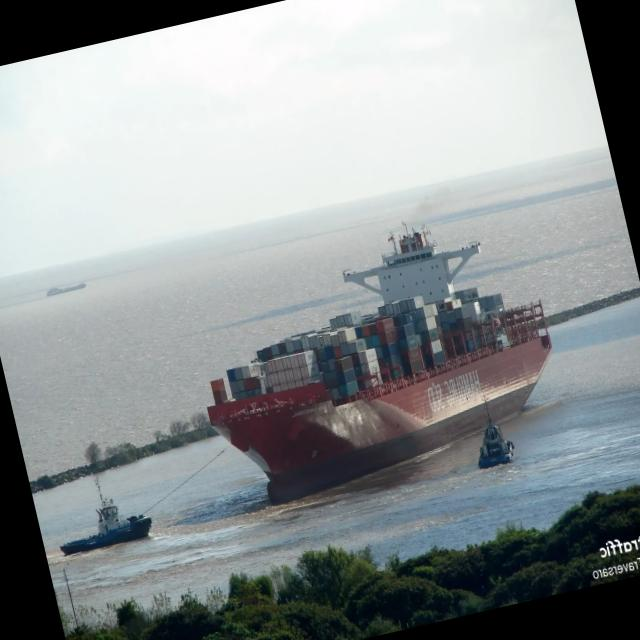Cargo: (207, 229, 551, 504)
Tug: (60, 476, 151, 554), (478, 401, 514, 467)
